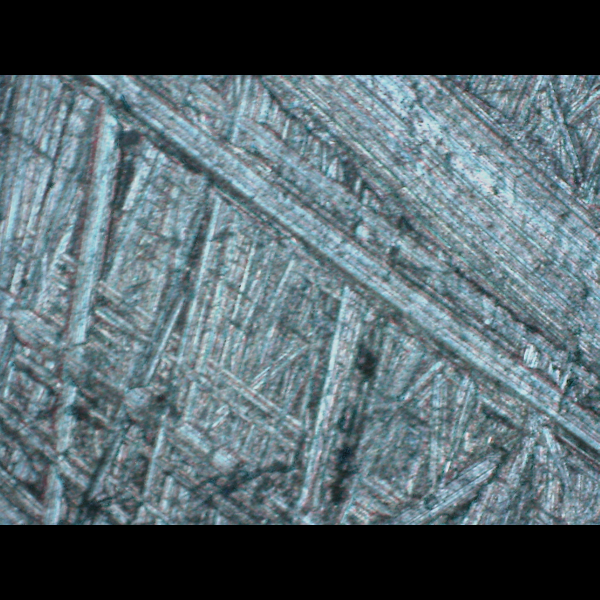d: (87, 75, 600, 414), (10, 248, 396, 524)
